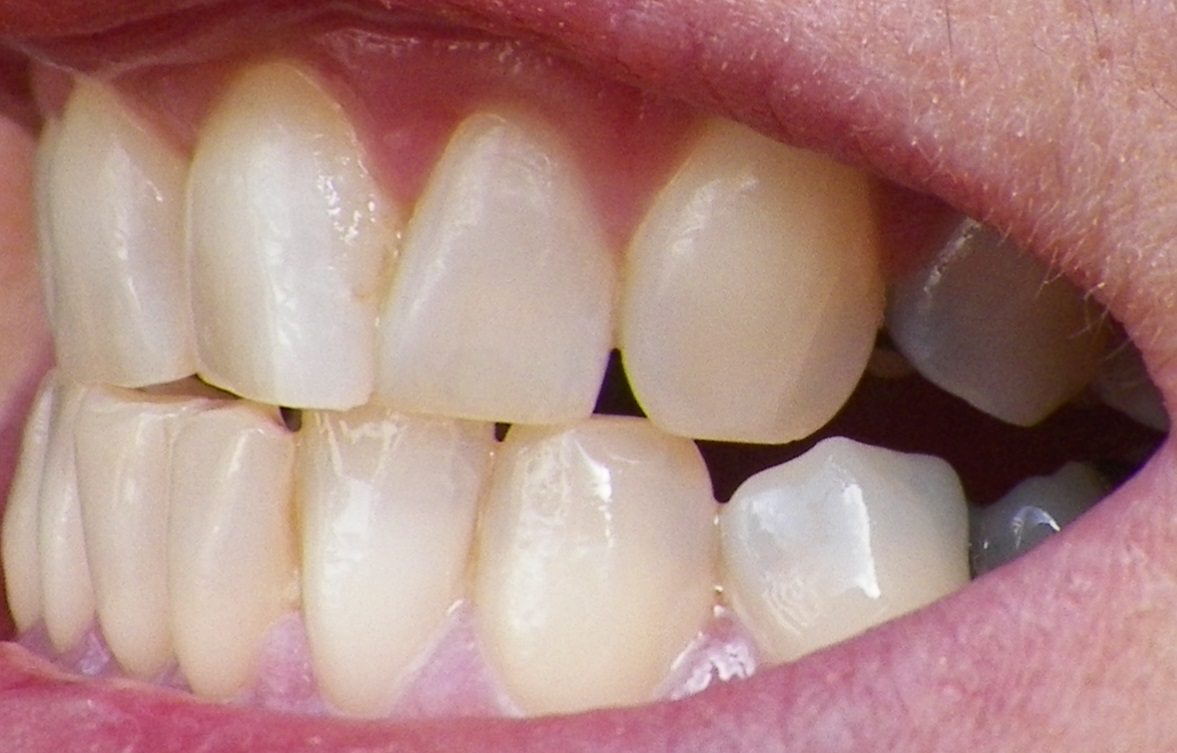boca: (5, 82, 1054, 700)
